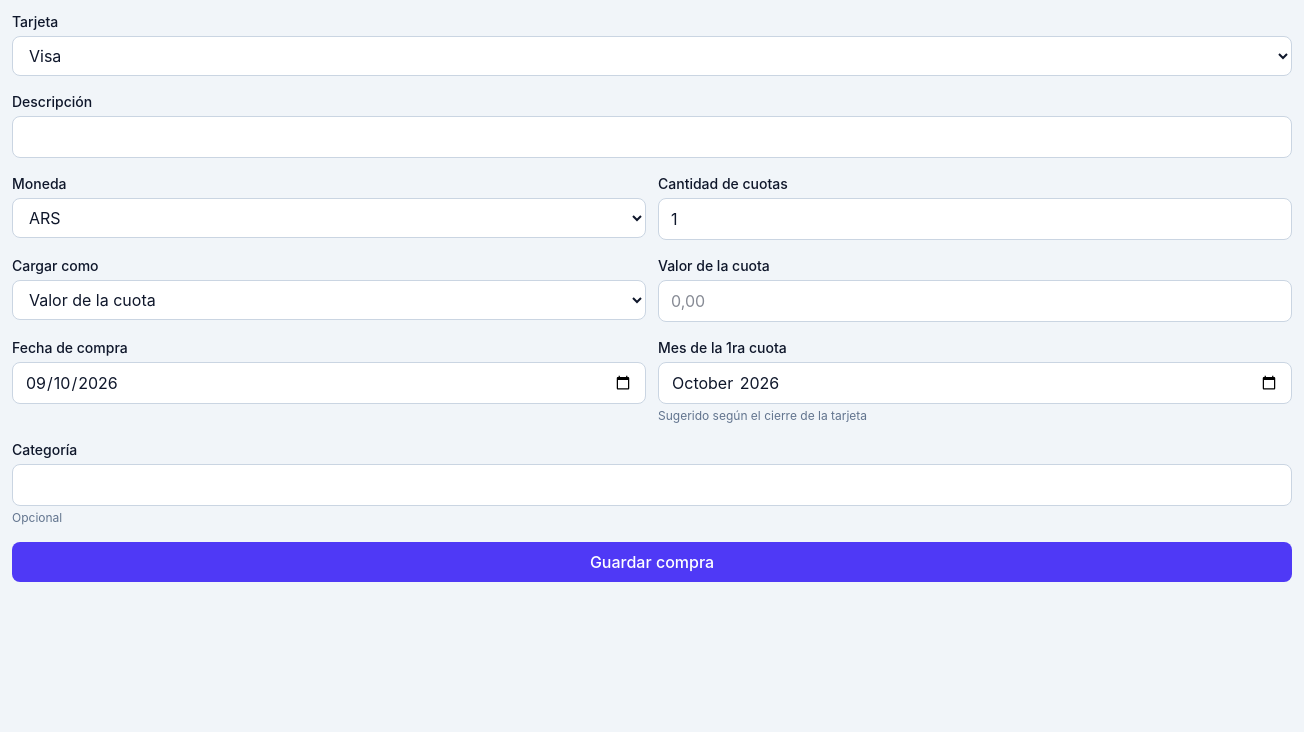
Test: PurchaseForm › sugiere el mes de la primera cuota según el cierre
The width and height of the screenshot is (1304, 732).
Expected: the field labelled "Mes de la 1ra cuota" holds "2026-10", [658, 362, 1292, 404]
Expected: the text "Sugerido según el cierre de la tarjeta" is shown, [658, 408, 867, 423]
In the date field labelled "Fecha de compra": [329, 383] box [12, 362, 646, 404], type "2026-09-26"
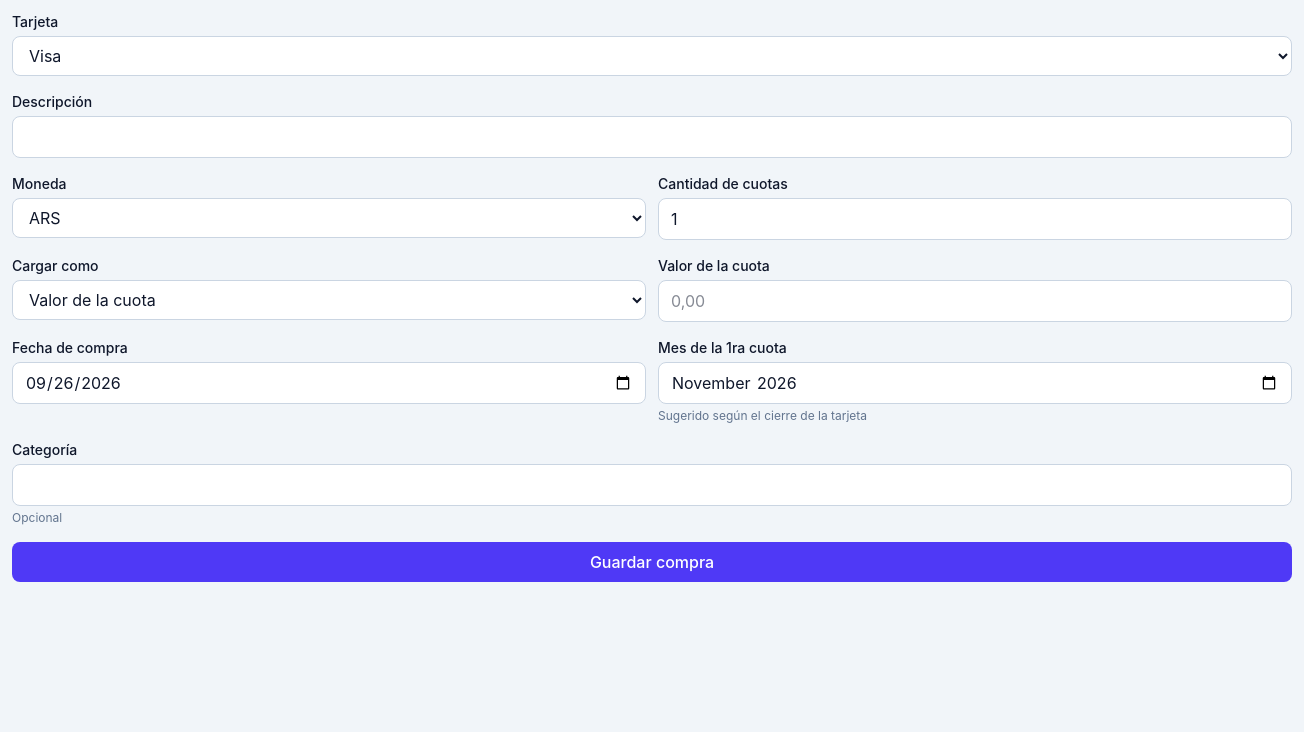
Now the field labelled "Mes de la 1ra cuota" holds "2026-11", box [658, 362, 1292, 404]
